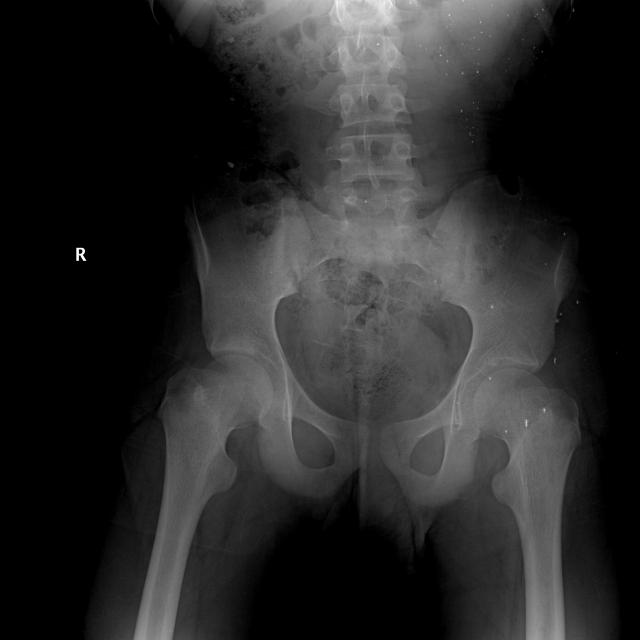normal-left: (474, 368, 581, 640)
normal-right: (133, 355, 273, 640)
